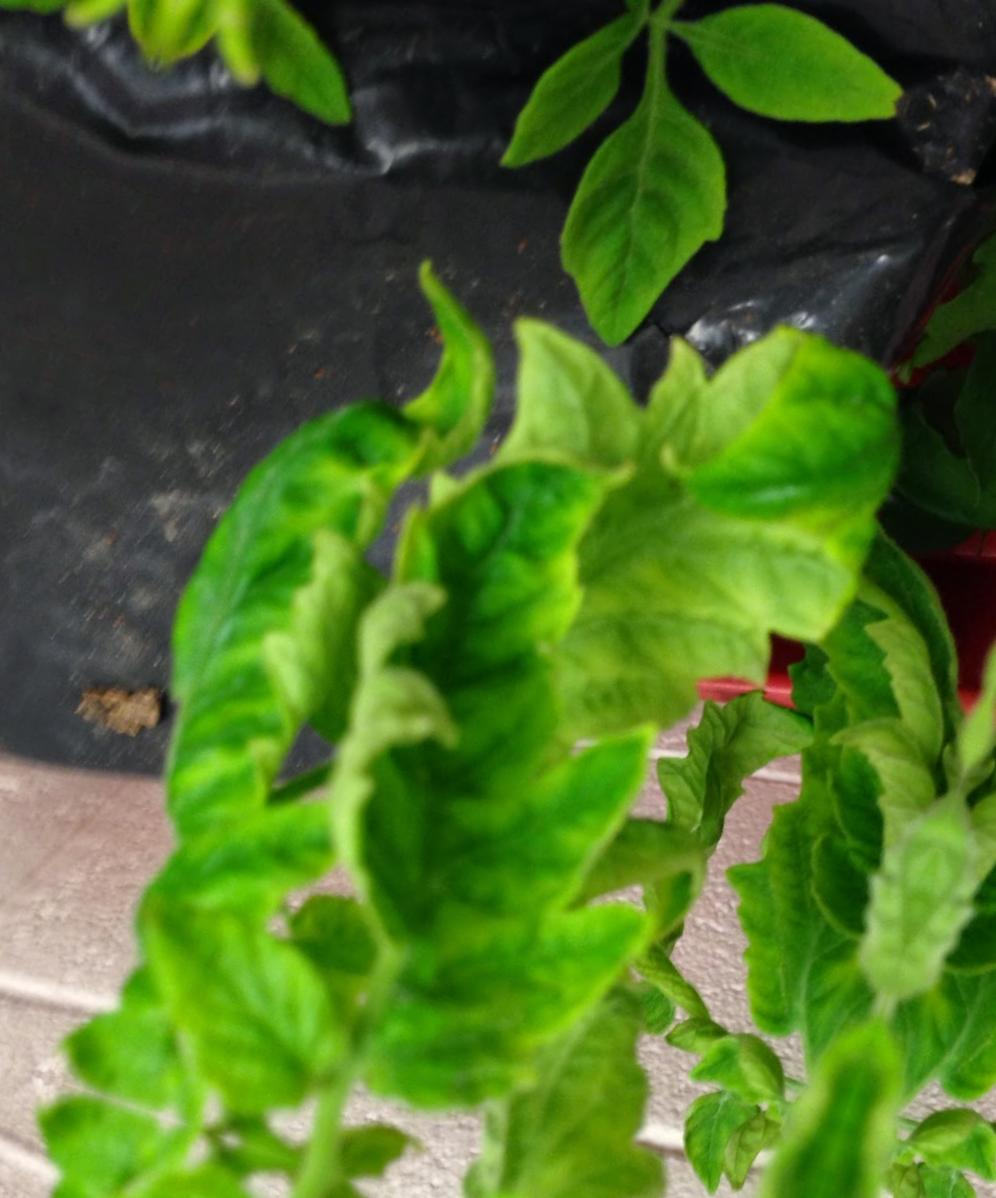Tomato leaf yellow virus: (190, 368, 761, 1198), (0, 321, 440, 1127), (522, 53, 758, 358), (681, 916, 905, 1198)
